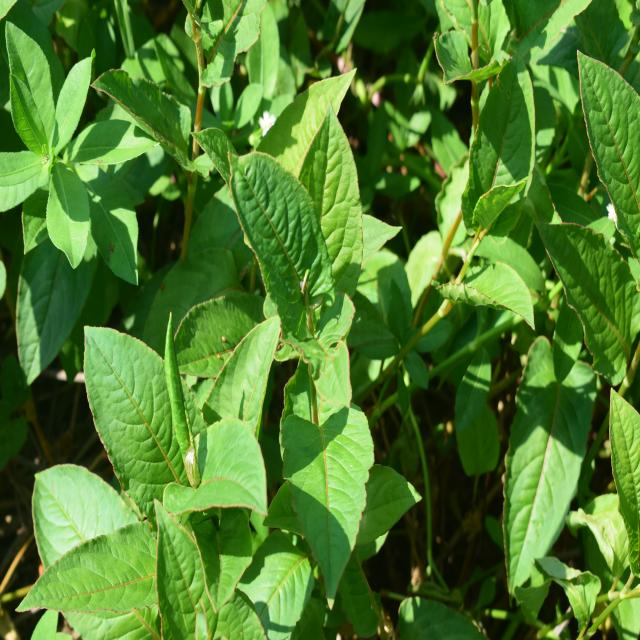Chinese_knotweed: (39, 346, 293, 619), (236, 118, 388, 572)
